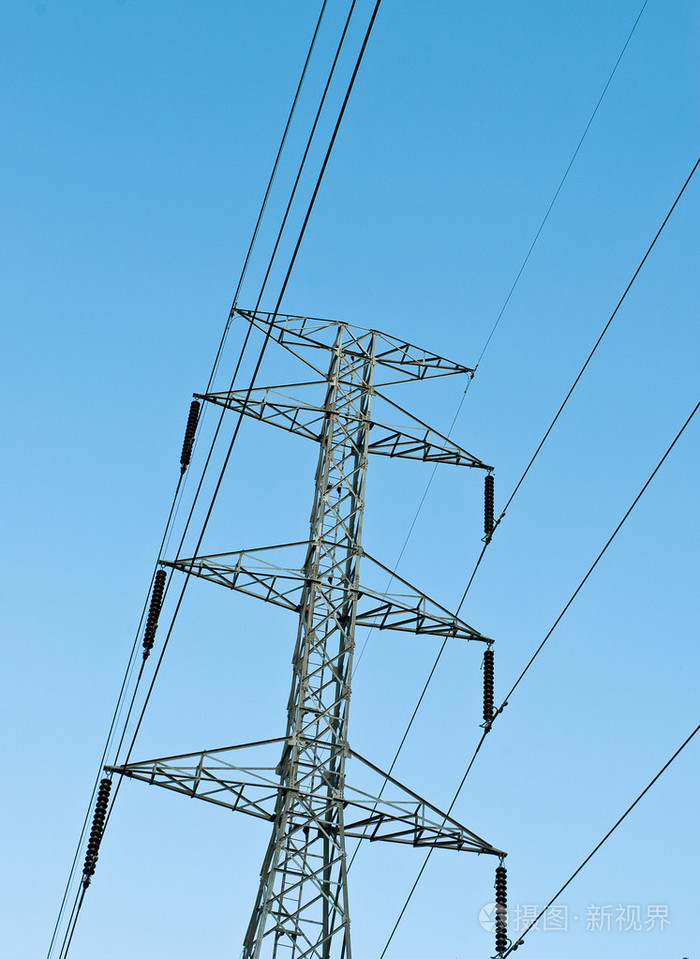insulator: (86, 779, 111, 874), (143, 567, 166, 648), (494, 863, 510, 953), (179, 399, 199, 467), (481, 472, 501, 536), (481, 647, 496, 722)
